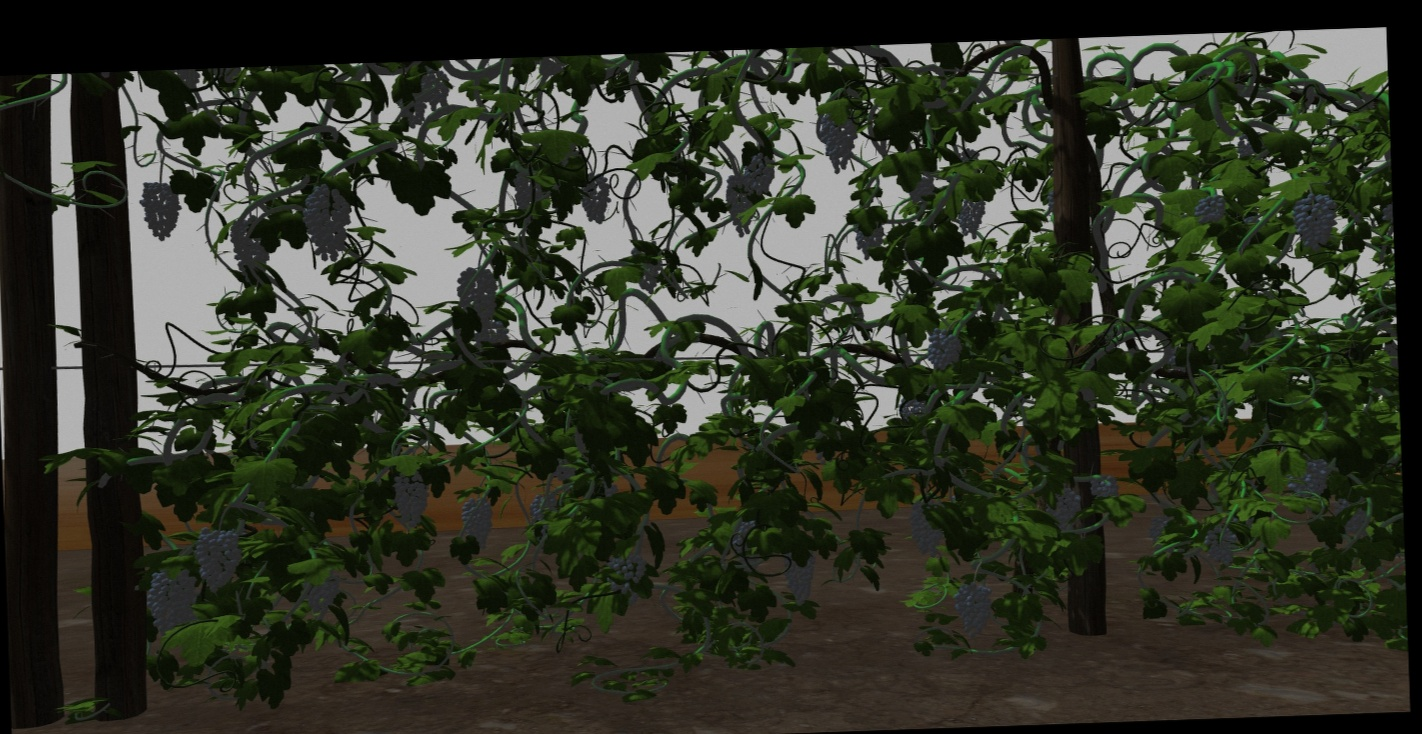grape: (301, 183, 351, 262), (145, 567, 199, 635), (194, 523, 242, 594), (456, 266, 498, 333), (820, 102, 859, 173), (139, 182, 182, 243), (1291, 193, 1337, 250), (390, 472, 429, 535), (953, 581, 996, 638), (907, 499, 946, 560), (229, 216, 270, 273), (725, 174, 758, 237), (1286, 457, 1330, 503), (459, 495, 494, 552), (783, 548, 817, 604), (1203, 522, 1240, 568), (1045, 484, 1081, 529), (306, 569, 340, 616), (927, 327, 962, 372), (581, 173, 611, 225), (607, 555, 648, 593), (393, 85, 428, 128), (852, 216, 885, 261), (512, 172, 546, 212), (957, 194, 986, 238), (747, 153, 775, 195), (422, 72, 450, 110), (1194, 195, 1227, 226), (1088, 474, 1119, 498), (901, 397, 926, 420)
